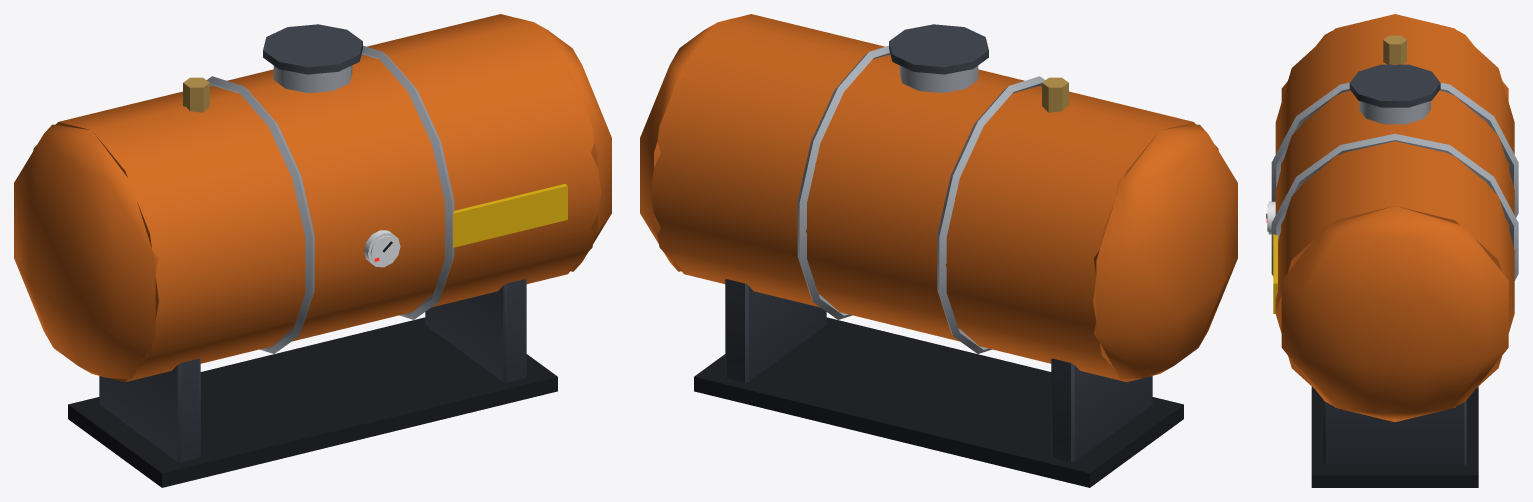
The model's file is tank_horizontal_fuel_tank.glb.
3 views of the same model, side by side, from view 1: azimuth 30°, elevation 25°; view 2: azimuth 150°, elevation 25°; view 3: azimuth 270°, elevation 25° (orthographic). The views are drawn at different scales.
Visible parts, largest first — view 1: tank_horizontal_fuel_tank; view 2: tank_horizontal_fuel_tank; view 3: tank_horizontal_fuel_tank.
Part boxes in pixels (x1=…): tank_horizontal_fuel_tank: x1=14, y1=14, x2=611, y2=487; tank_horizontal_fuel_tank: x1=640, y1=14, x2=1237, y2=487; tank_horizontal_fuel_tank: x1=1266, y1=14, x2=1518, y2=487.
Size of the model in its own units: 2.26 by 1.48 by 1.06.
